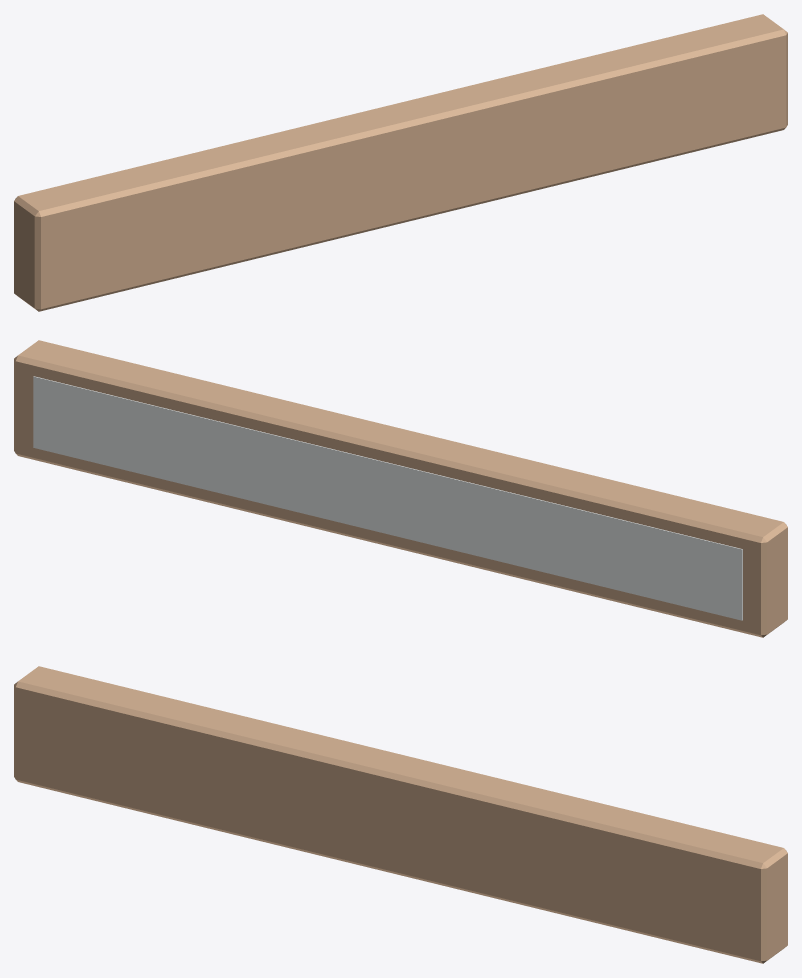
Rendered from shop_name_sign.glb.
3 renders of one model, top to bottom at view 1: azimuth 30°, elevation 25°; view 2: azimuth 150°, elevation 25°; view 3: azimuth 330°, elevation 25°, orthographic.
Visible parts, largest first — view 1: SignFrame; view 2: BlankNameFace, SignFrame; view 3: SignFrame.
Boxes of the visible parts, x1,y1,x2,y2 form: SignFrame: [14, 14, 787, 311]; BlankNameFace: [33, 376, 742, 620]; SignFrame: [14, 340, 787, 637]; SignFrame: [14, 666, 787, 963].
Size of the model in its own units: 0.8545 by 0.1091 by 0.0509.
